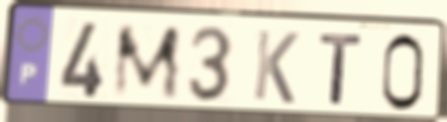0: (379, 31, 427, 113)
3: (186, 23, 238, 105)
4: (58, 18, 109, 101)
K: (250, 27, 302, 107)
M: (110, 23, 184, 101)
T: (317, 31, 367, 107)
